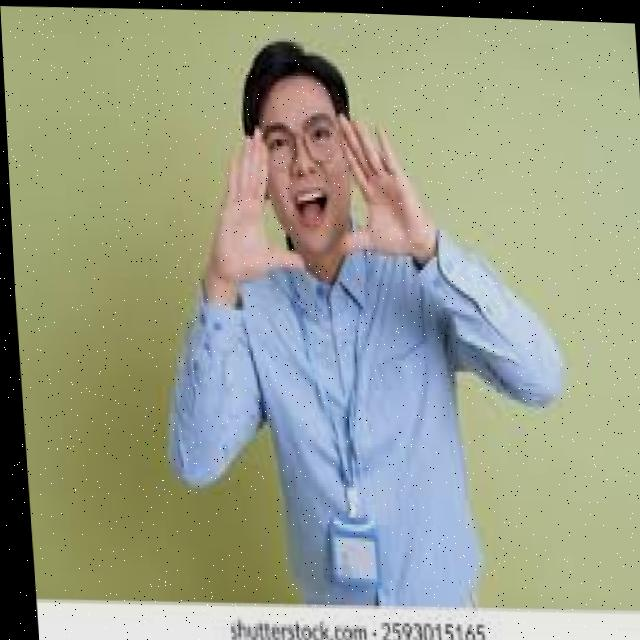id_card: (288, 280, 383, 587)
